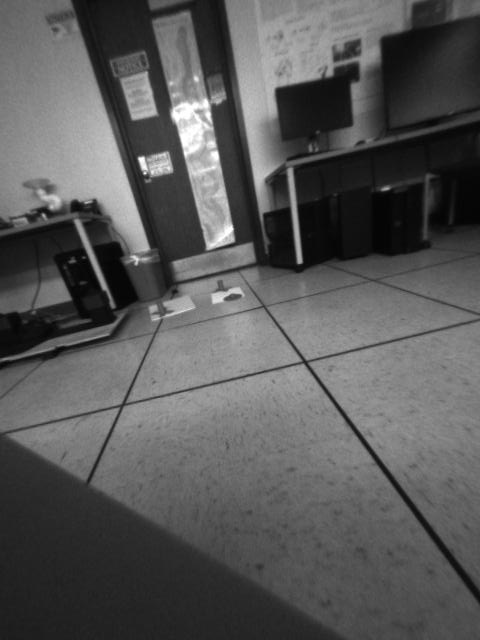X: (149, 297, 172, 319), (211, 279, 225, 290)
